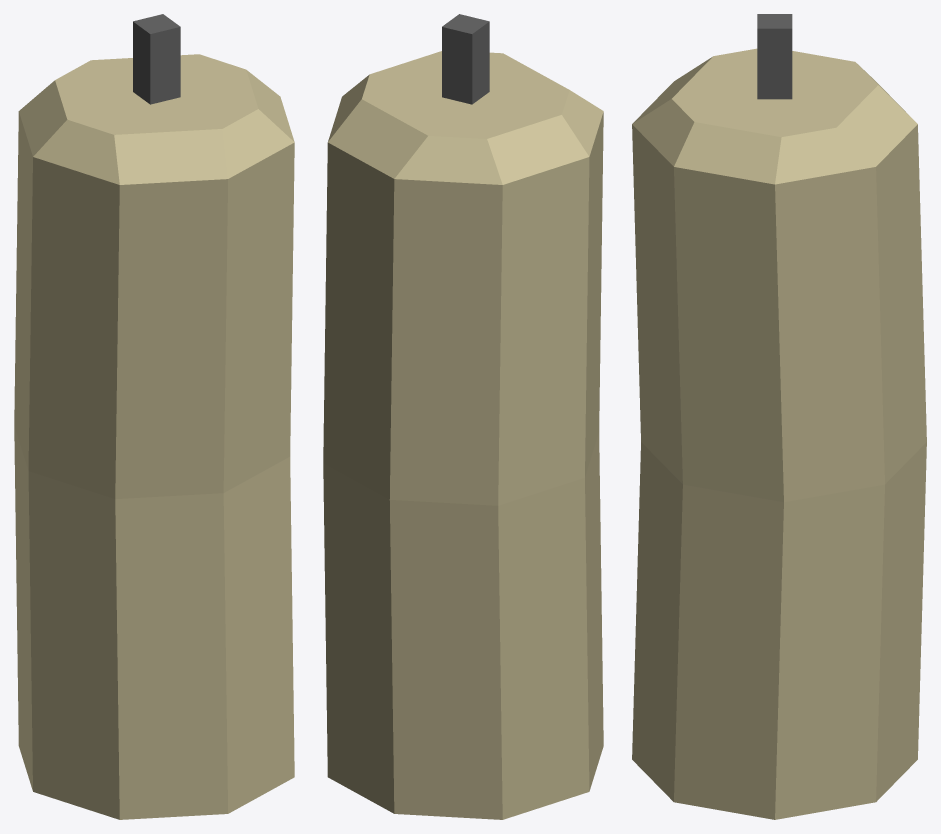
Rendered from swieca_1.fbx.
3 renders of one model, left to right at view 1: azimuth 30°, elevation 25°; view 2: azimuth 150°, elevation 25°; view 3: azimuth 270°, elevation 25°, orthographic.
Visible parts, largest first — view 1: Cylinder.001; view 2: Cylinder.001; view 3: Cylinder.001.
Boxes of the visible parts, bbox=[...] form: Cylinder.001: bbox=[14, 14, 294, 819]; Cylinder.001: bbox=[323, 14, 603, 819]; Cylinder.001: bbox=[632, 14, 926, 819].
Bounding box in the file's own units: 120 × 342 × 124.
